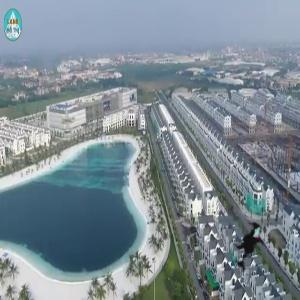drone: (214, 209, 295, 290)
